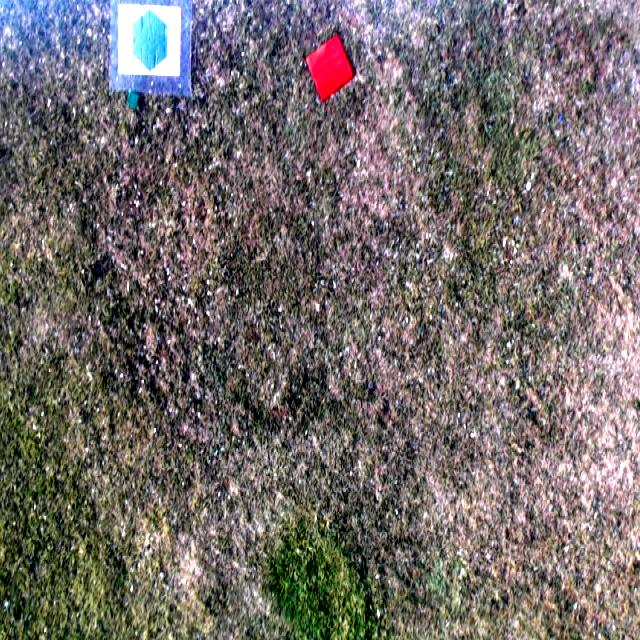blue_hexagon: (132, 9, 167, 71)
red_square: (307, 34, 353, 101)
